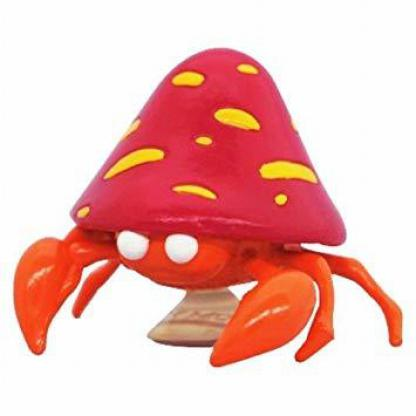Parasect: (32, 44, 406, 378)
